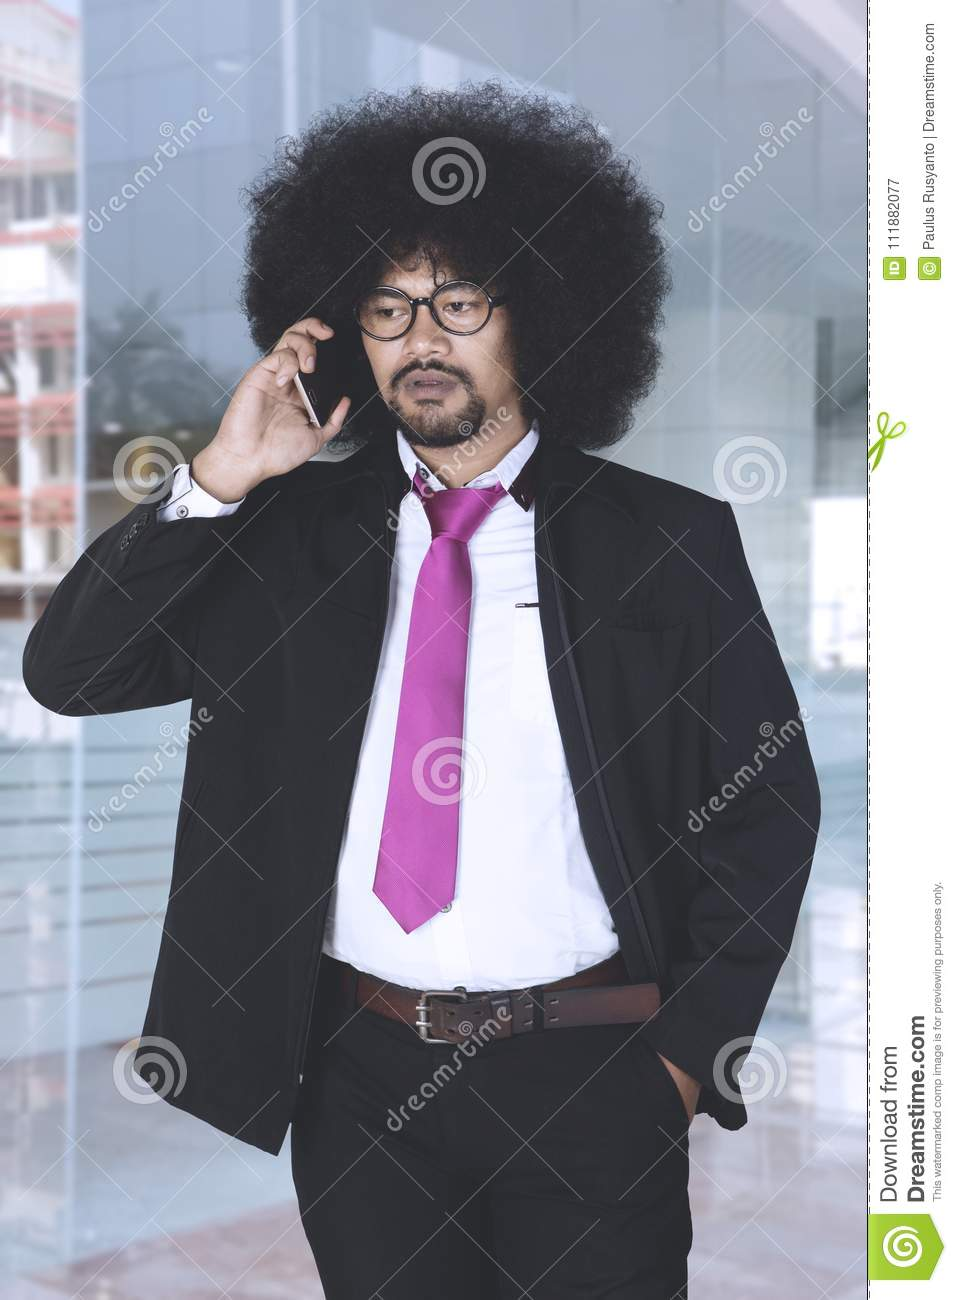phone: (284, 318, 373, 429)
talk: (215, 276, 496, 491)
